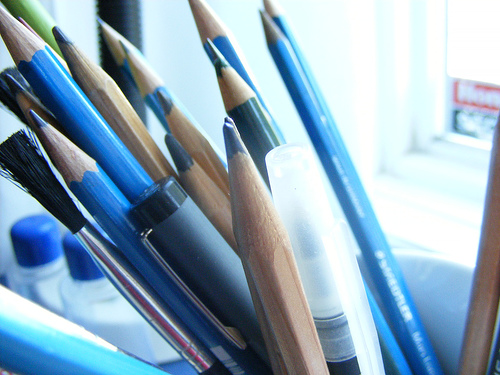pen_tip: (25, 106, 126, 192)
